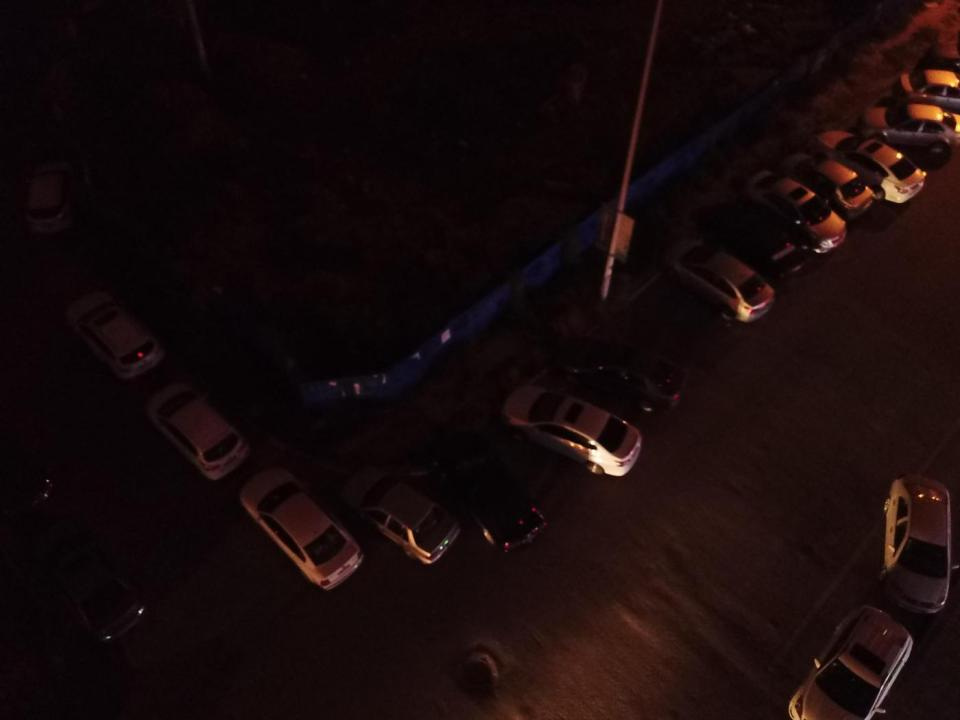car: (238, 466, 366, 591), (28, 516, 149, 647), (788, 603, 913, 720), (436, 428, 547, 552), (501, 383, 643, 478), (342, 464, 460, 566), (877, 473, 959, 615), (144, 381, 250, 481), (662, 240, 777, 324), (566, 339, 690, 415), (65, 289, 166, 379), (808, 129, 925, 205), (744, 169, 847, 255), (708, 200, 807, 282), (781, 153, 875, 221), (860, 102, 960, 158), (25, 160, 74, 233), (897, 68, 960, 112)
